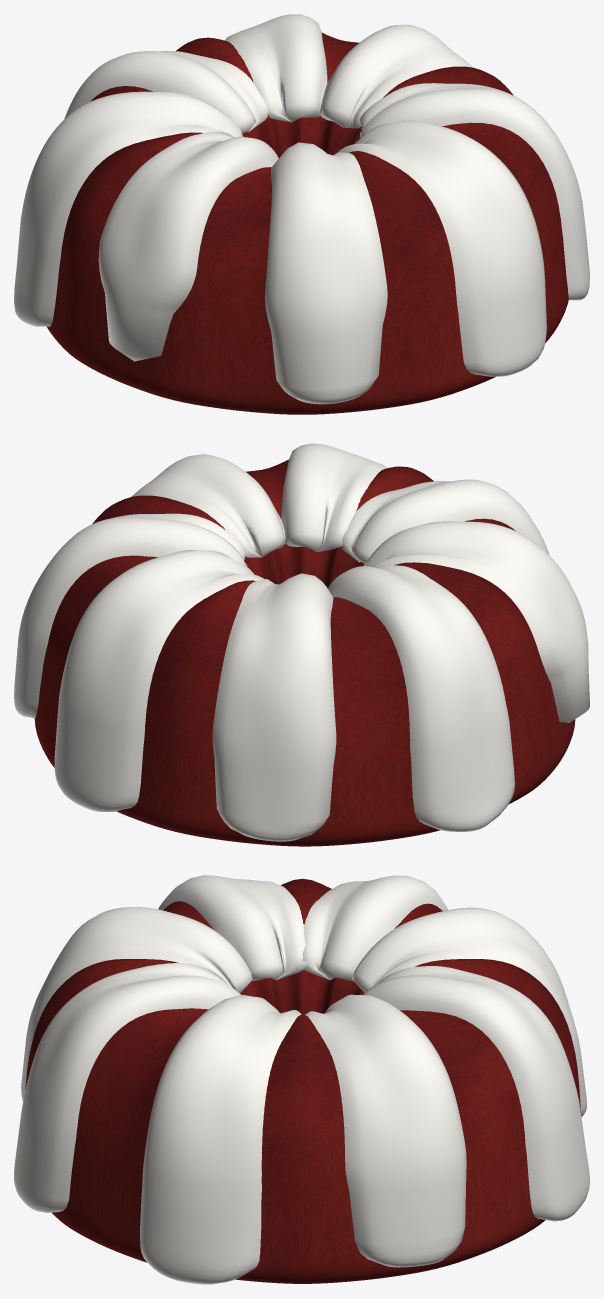
Rendered from bundt_redvelvet_8.glb.
The picture shows the model from 3 angles, top to bottom: view 1: azimuth 30°, elevation 25°; view 2: azimuth 150°, elevation 25°; view 3: azimuth 270°, elevation 25°; orthographic projection. The views are drawn at different scales.
Visible parts, largest first — view 1: cake.001, frosting.005, frosting.006, frosting.004, frosting.003, frosting.007, frosting.002, frosting.001, frosting; view 2: cake.001, frosting.002, frosting.003, frosting.001, frosting.004, frosting, frosting.005, frosting.006, frosting.007; view 3: cake.001, frosting.007, frosting, frosting.001, frosting.006, frosting.002, frosting.005, frosting.004, frosting.003.
Boxes of the visible parts, box(x1,y1,x2,y2) form: cake.001: box(46, 32, 568, 414); frosting.005: box(265, 142, 387, 404); frosting.006: box(337, 120, 546, 376); frosting.004: box(98, 131, 278, 361); frosting.003: box(14, 91, 243, 326); frosting.007: box(359, 83, 589, 300); frosting.002: box(64, 50, 268, 133); frosting.001: box(224, 14, 327, 122); frosting: box(319, 24, 472, 128); cake.001: box(34, 460, 575, 846); frosting.002: box(212, 573, 336, 841); frosting.003: box(328, 565, 514, 831); frosting.001: box(54, 550, 263, 811); frosting.004: box(363, 521, 589, 722); frosting: box(14, 513, 247, 718); frosting.005: box(342, 479, 549, 563); frosting.006: box(281, 443, 387, 551); frosting.007: box(131, 454, 285, 557); cake.001: box(25, 878, 580, 1283); frosting.007: box(140, 994, 301, 1284); frosting: box(305, 994, 466, 1267); frosting.001: box(363, 966, 589, 1221); frosting.006: box(14, 963, 240, 1212); frosting.002: box(352, 907, 586, 1116); frosting.005: box(21, 907, 252, 1101); frosting.004: box(158, 875, 308, 981); frosting.003: box(302, 875, 447, 981).
Bounding box in the file's own units: 0.2134 × 0.0937 × 0.2147.
2 materials, 1 textured.
